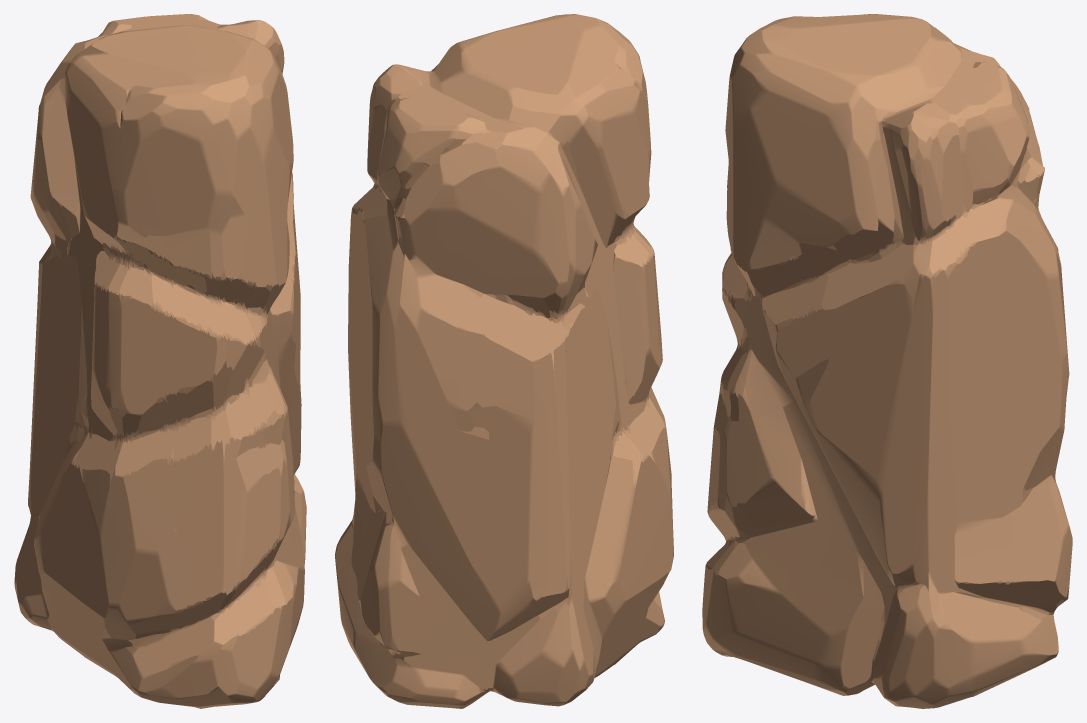
3 renders of one model, left to right at view 1: azimuth 30°, elevation 25°; view 2: azimuth 150°, elevation 25°; view 3: azimuth 270°, elevation 25°, orthographic.
Parts seen in each view (by area): view 1: Mesh_16_LOD0; view 2: Mesh_16_LOD0; view 3: Mesh_16_LOD0.
Part boxes in pixels (box(x1,y1,x2,y2)): Mesh_16_LOD0: box(14, 14, 306, 708); Mesh_16_LOD0: box(335, 14, 673, 708); Mesh_16_LOD0: box(702, 14, 1072, 708).
Size of what is drawn, in the model's own units: 1014 by 2176 by 1185.
